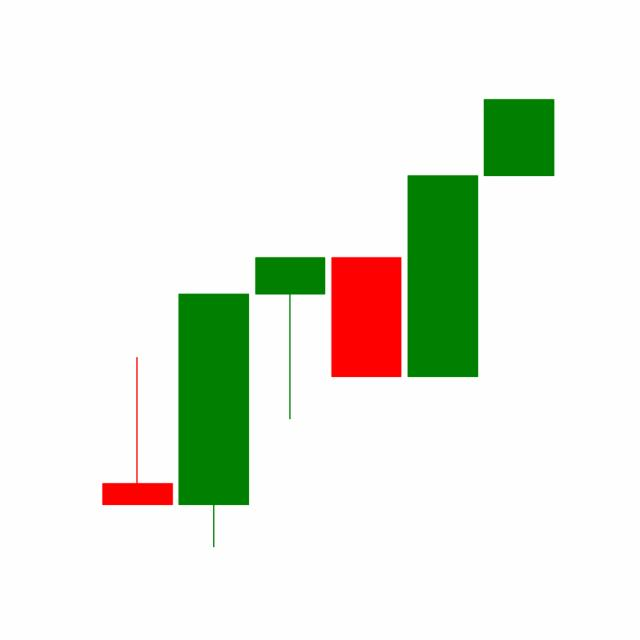Marubozu: (403, 173, 481, 379)
